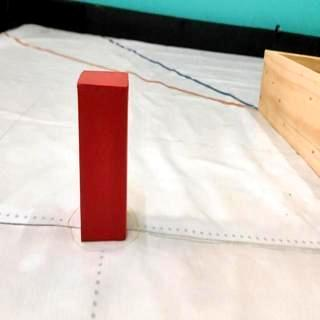redbox: (76, 70, 128, 243)
